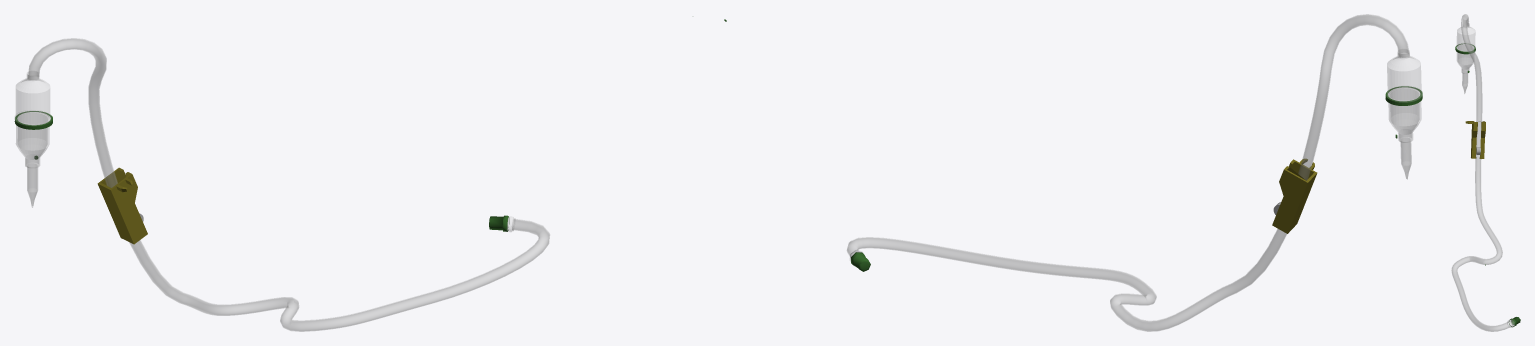
The model's file is 5_Infusion_in_bottle.gltf.
3 views of the same model, side by side, from view 1: azimuth 30°, elevation 25°; view 2: azimuth 150°, elevation 25°; view 3: azimuth 270°, elevation 25° (orthographic). The views are drawn at different scales.
Parts seen in each view (by area): view 1: BezierCurve.001, ObernTeil, Einstellung; view 2: BezierCurve.001, ObernTeil, Einstellung; view 3: BezierCurve.001, ObernTeil, Einstellung, RingGreen0, DeckerGreen0.
Boxes of the visible parts, x1,y1,x2,y2 form: BezierCurve.001: (28,38,549,331); ObernTeil: (14,72,50,207); Einstellung: (97,167,147,244); BezierCurve.001: (847,14,1409,331); ObernTeil: (1387,49,1422,179); Einstellung: (1272,158,1317,233); BezierCurve.001: (1451,14,1512,331); ObernTeil: (1456,23,1475,93); Einstellung: (1465,121,1485,158); RingGreen0: (1455,43,1475,72); DeckerGreen0: (1485,264,1520,327).
Bounding box in the file's own units: 8.99 × 4.35 × 1.44.
